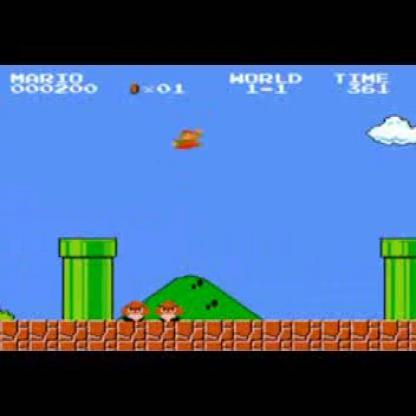Goomba: (123, 296, 151, 324), (156, 297, 185, 323)
